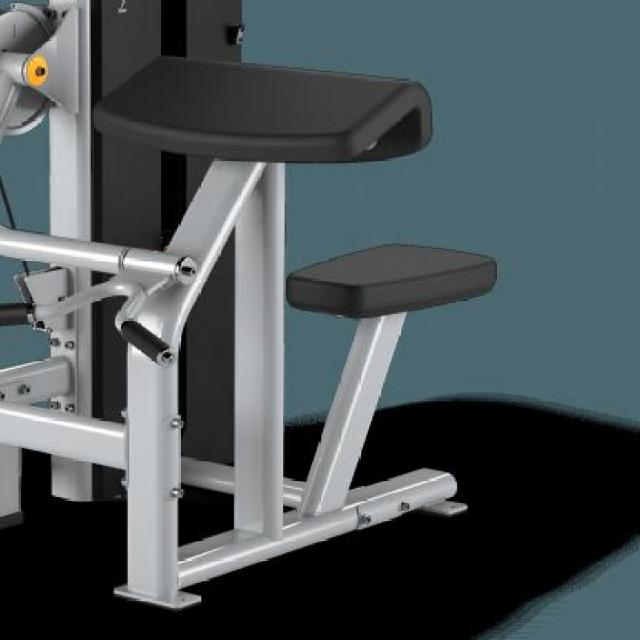arm curl machine: (0, 1, 498, 616)
